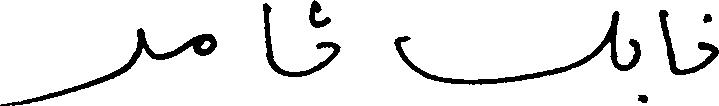X: (395, 6, 616, 89), (0, 23, 142, 105), (317, 0, 340, 75), (660, 5, 676, 79), (700, 9, 718, 73), (262, 0, 273, 74), (193, 29, 216, 60), (631, 34, 639, 105)
